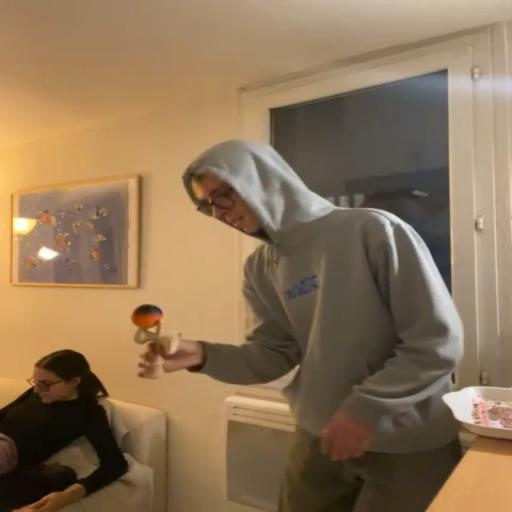kendama_ball: (130, 304, 163, 329)
